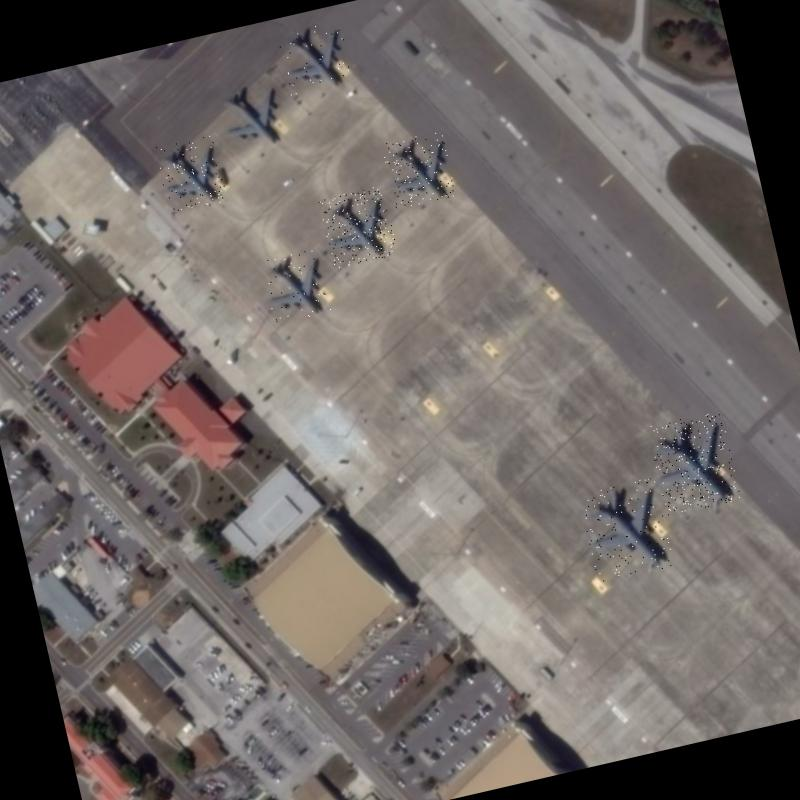A14: (318, 185, 398, 268), (276, 20, 354, 98), (381, 130, 457, 209), (214, 76, 290, 155), (154, 134, 228, 214), (257, 247, 332, 325)
A18: (578, 476, 674, 583), (646, 409, 741, 516)
